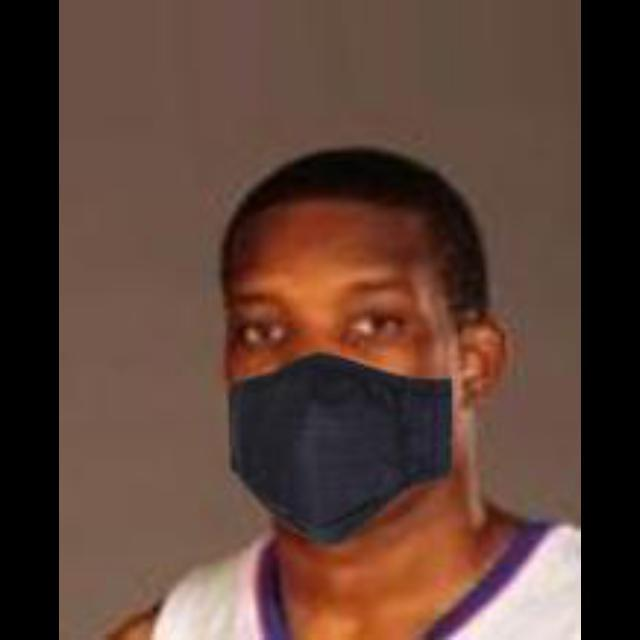suspicion: (184, 128, 542, 540)
